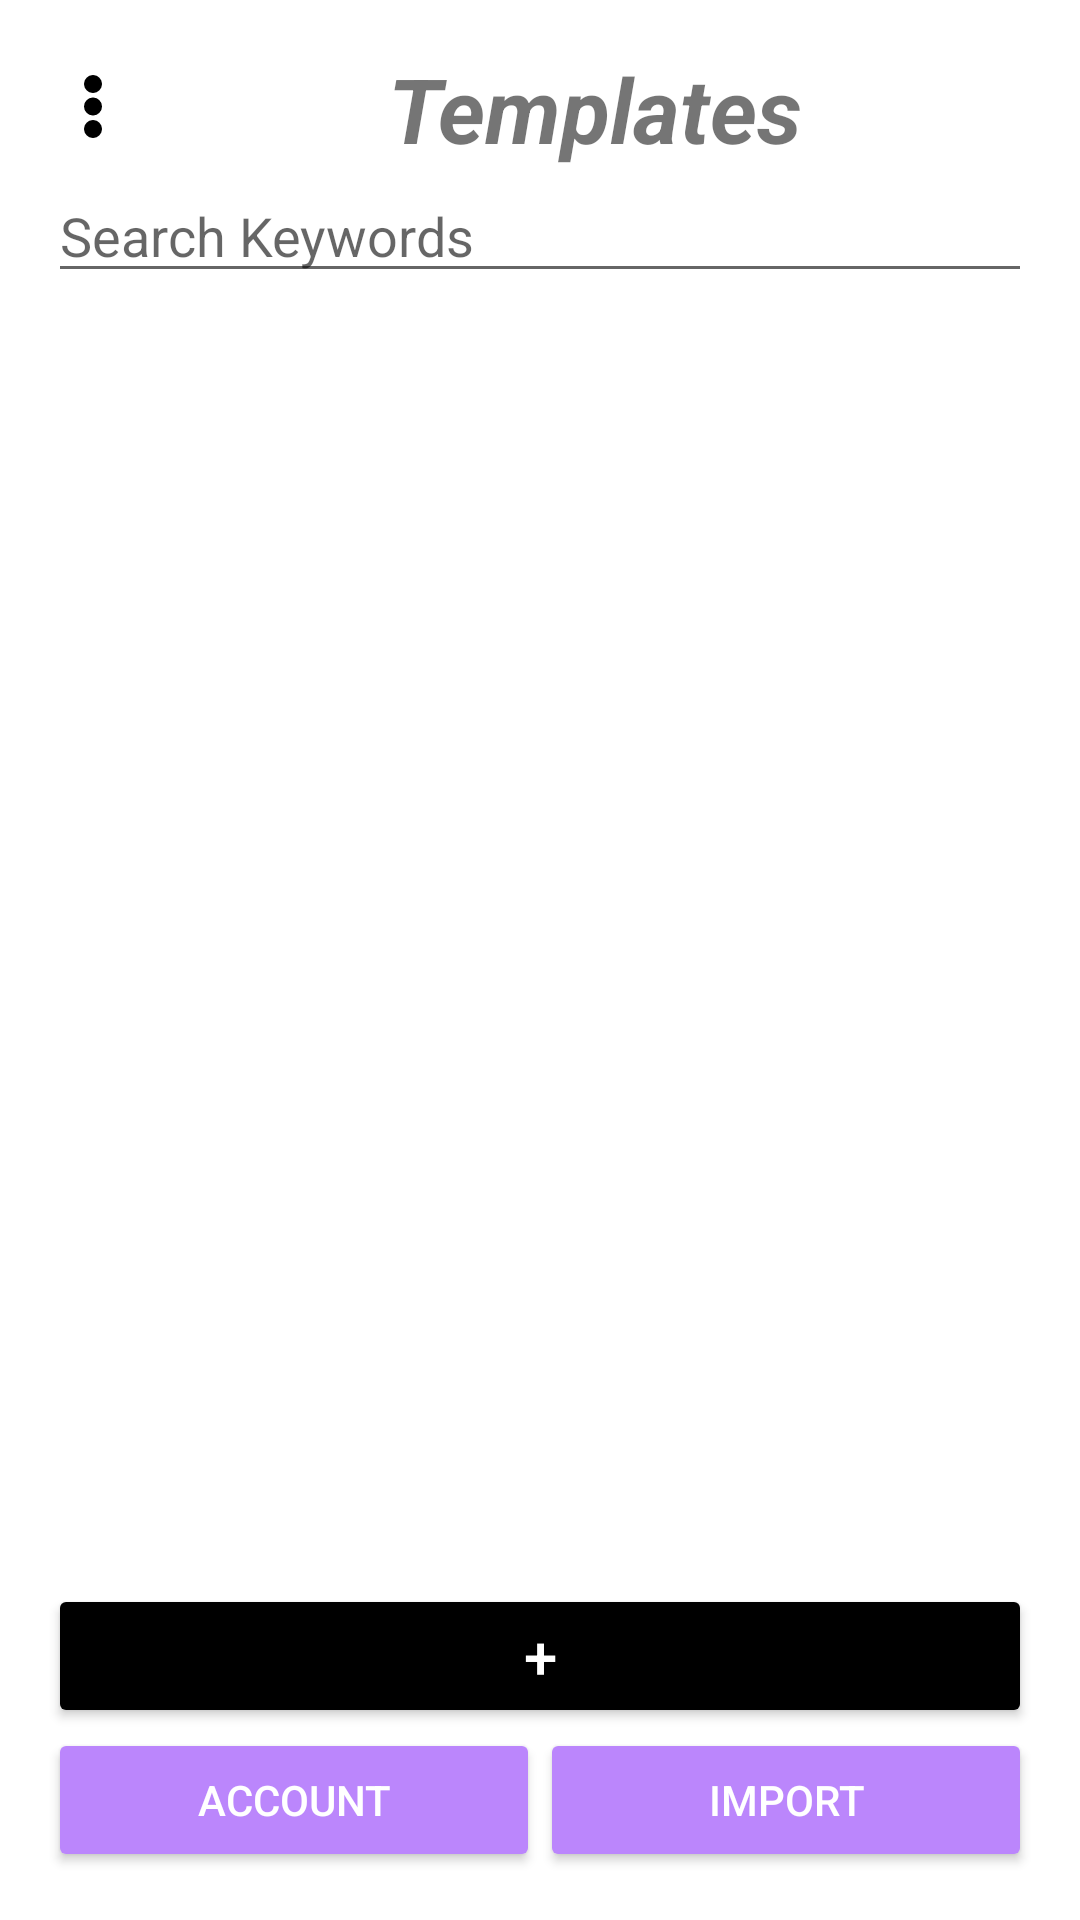

Icons on this 1080×1920 Android screen, each with the point to tap as (x=x, y=y):
menu: (x=93, y=106)
